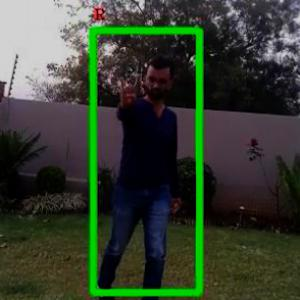takeoff-hand: (111, 70, 140, 113)
